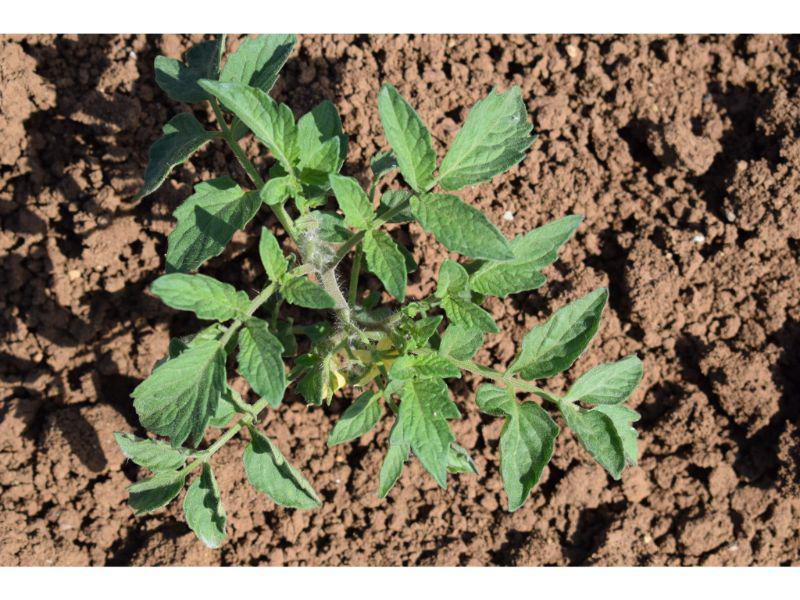tomato: (117, 32, 644, 549)
